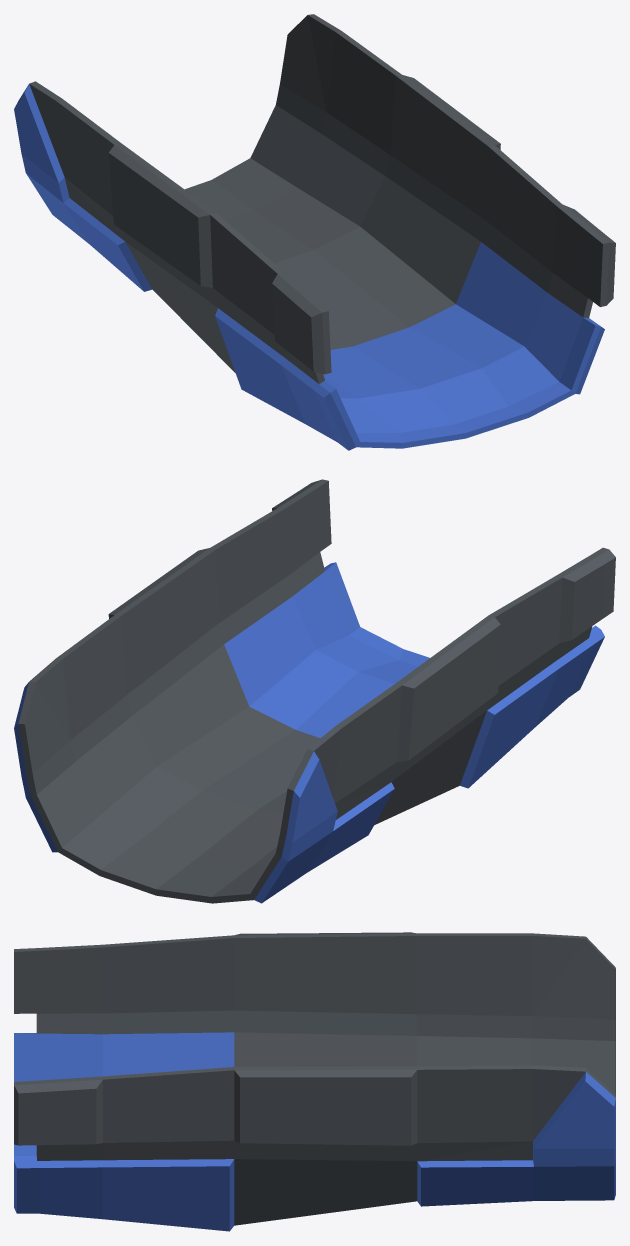
Rendered from Dropship_04_Bottom_Frame_Blue.fbx.
3 renders of one model, top to bottom at view 1: azimuth 30°, elevation 25°; view 2: azimuth 150°, elevation 25°; view 3: azimuth 270°, elevation 25°, orthographic. The views are drawn at different scales.
Parts seen in each view (by area): view 1: Dropship_04_Bottom_Frame_Blue; view 2: Dropship_04_Bottom_Frame_Blue; view 3: Dropship_04_Bottom_Frame_Blue.
Part boxes in pixels (x1,y1,x2,y2): Dropship_04_Bottom_Frame_Blue: (14,14,615,450); Dropship_04_Bottom_Frame_Blue: (14,479,615,903); Dropship_04_Bottom_Frame_Blue: (14,932,615,1231).
Bounding box in the file's own units: 421 × 260 × 739.
Materials: 1 (1 with a texture image).
